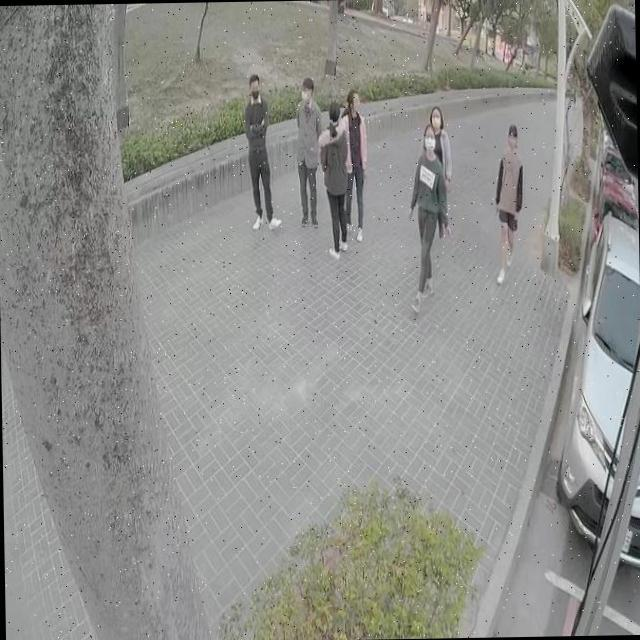person: (404, 120, 452, 314), (316, 91, 354, 263), (491, 121, 527, 288), (242, 70, 272, 232), (426, 100, 456, 239), (294, 76, 320, 226), (344, 85, 369, 240)
